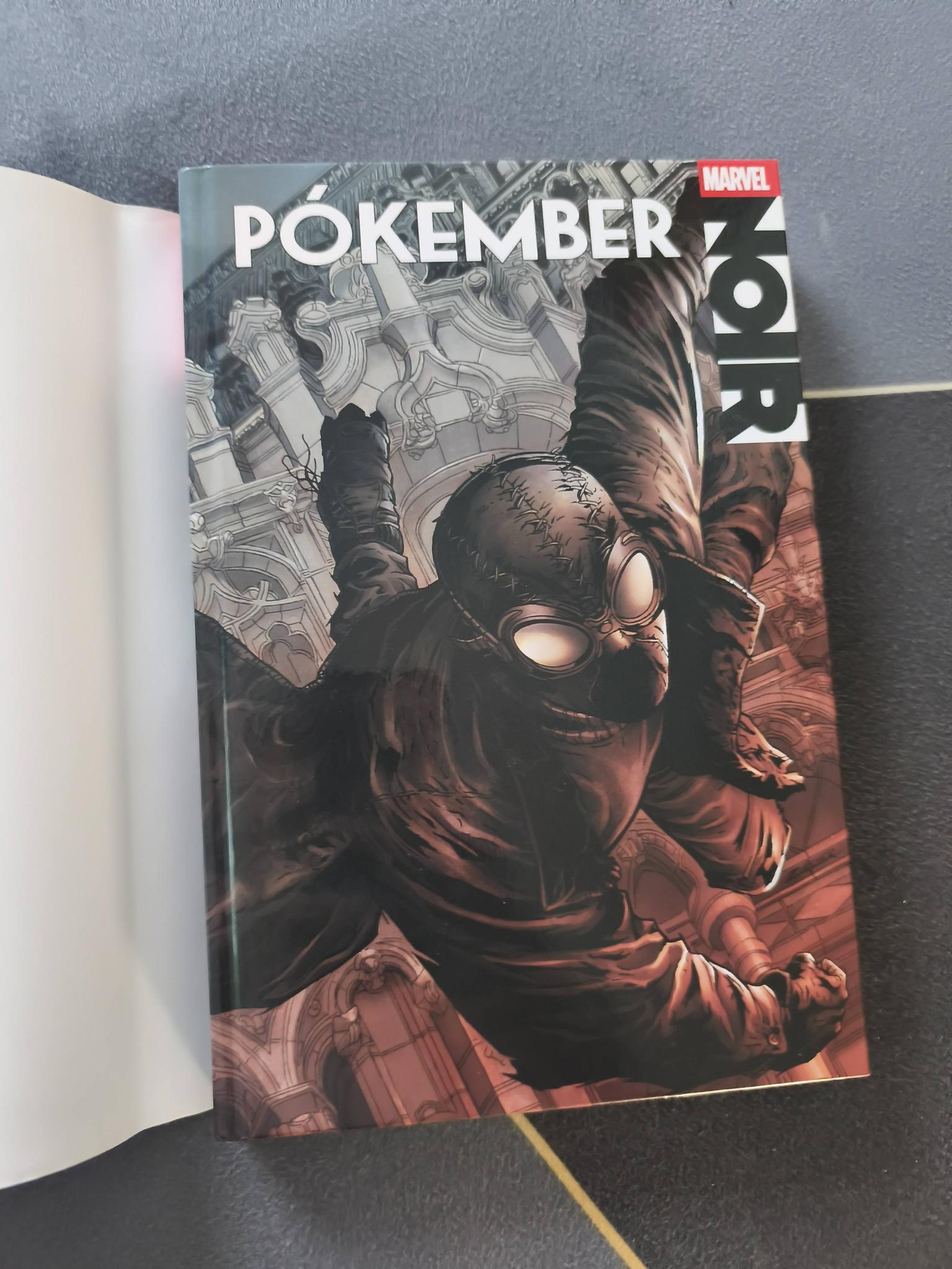comic: (168, 137, 869, 1138)
